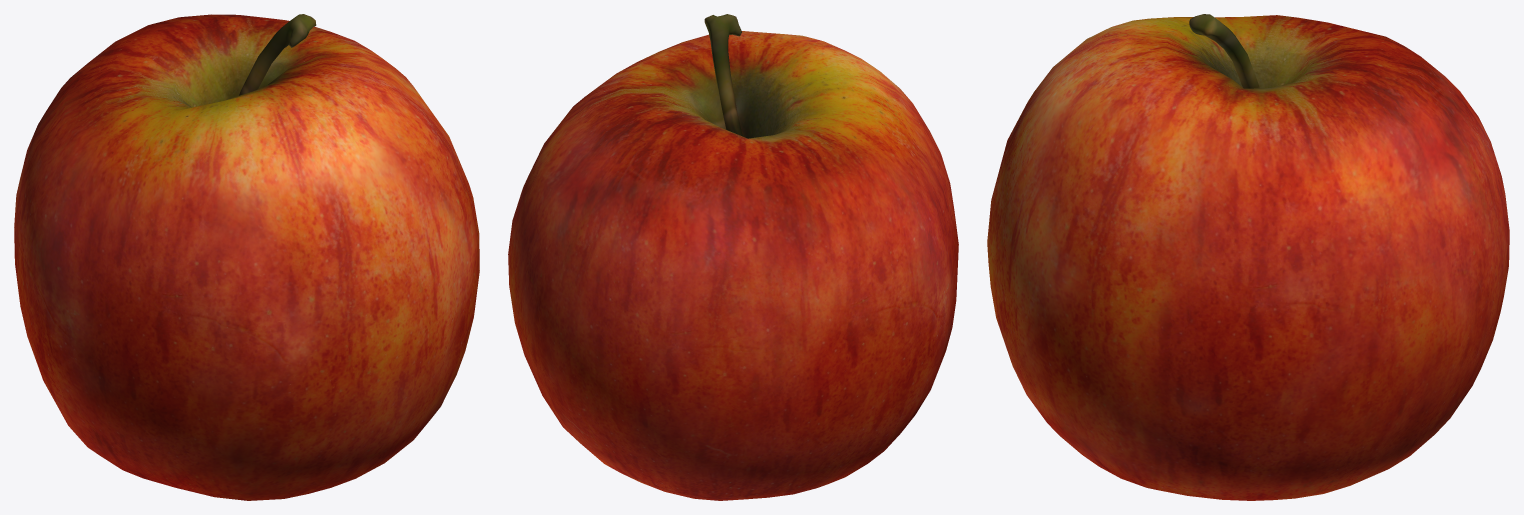
The model's file is apple.glb.
3 views of the same model, side by side, from view 1: azimuth 30°, elevation 25°; view 2: azimuth 150°, elevation 25°; view 3: azimuth 270°, elevation 25° (orthographic). The views are drawn at different scales.
Parts seen in each view (by area): view 1: apple_low_obj; view 2: apple_low_obj; view 3: apple_low_obj.
Part boxes in pixels (<box>): apple_low_obj: <box>14,14,479,500</box>; apple_low_obj: <box>508,14,958,500</box>; apple_low_obj: <box>987,14,1509,500</box>.
Bounding box in the file's own units: 76.34 × 79.5 × 82.14.
1 material, 1 textured.
